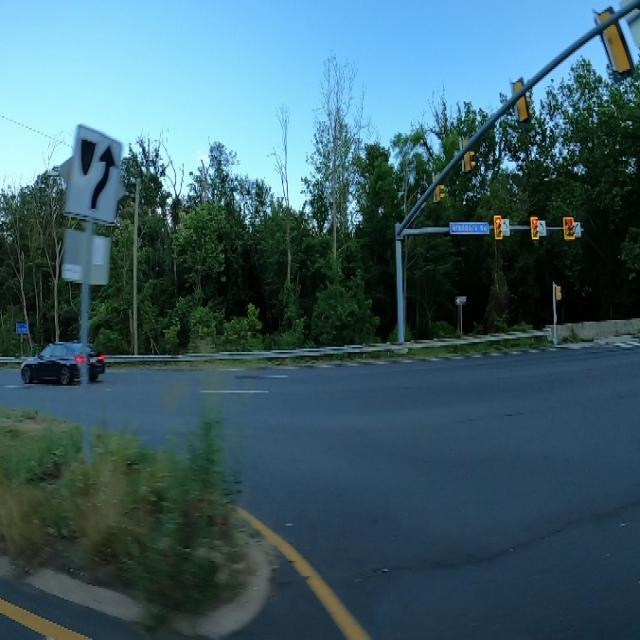car: (18, 325, 107, 392)
